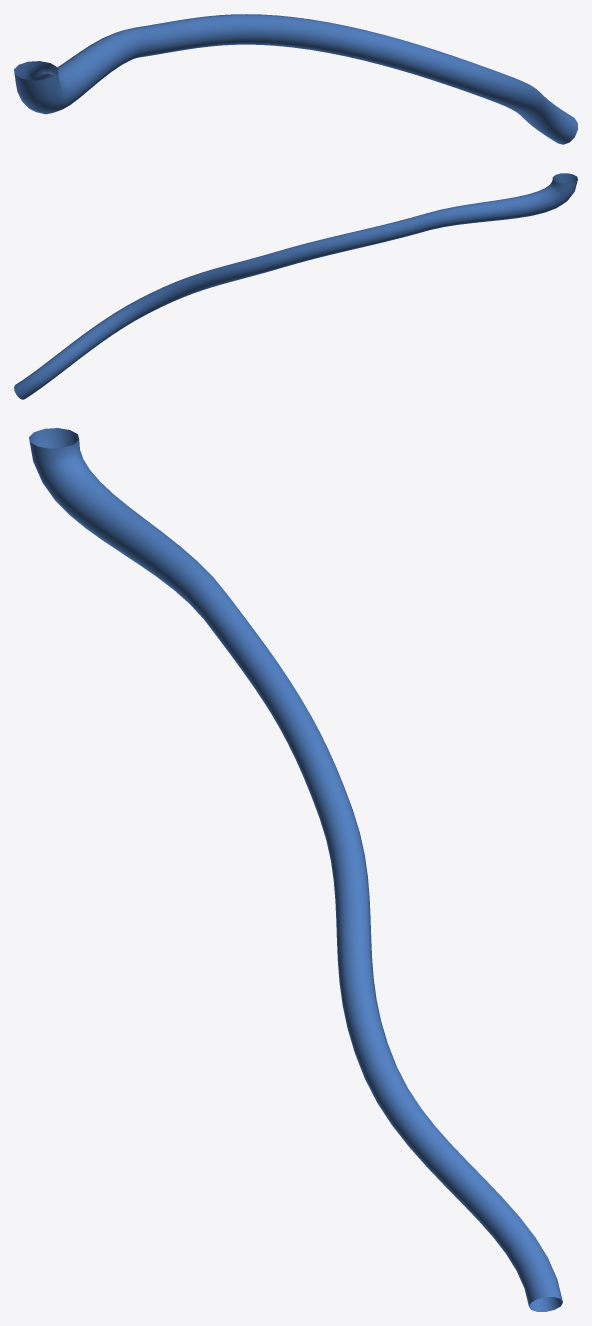
The picture shows the model from 3 angles, top to bottom: view 1: azimuth 30°, elevation 25°; view 2: azimuth 150°, elevation 25°; view 3: azimuth 270°, elevation 25°; orthographic projection. The views are drawn at different scales.
Visible parts, largest first — view 1: 左侧足底外侧静脉; view 2: 左侧足底外侧静脉; view 3: 左侧足底外侧静脉.
Boxes of the visible parts, x1,y1,x2,y2 form: 左侧足底外侧静脉: [14, 14, 577, 144]; 左侧足底外侧静脉: [14, 173, 577, 399]; 左侧足底外侧静脉: [29, 428, 562, 1311].
Bounding box in the file's own units: 0.0585 × 0.0297 × 0.0309.
